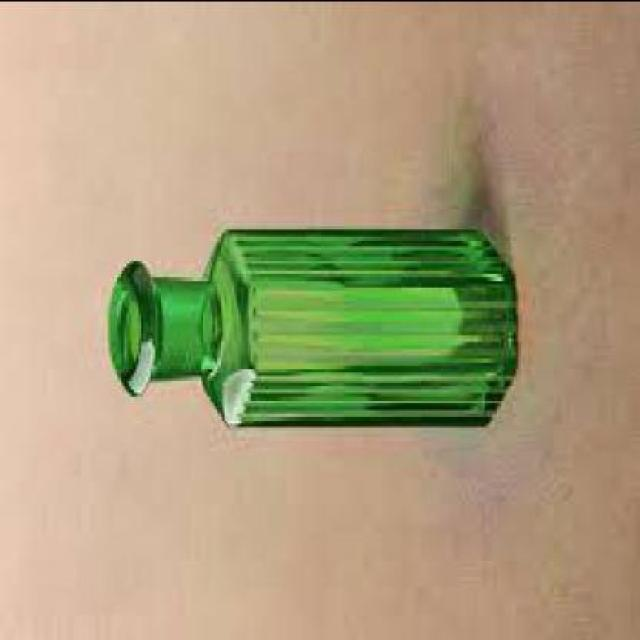GLASS: (106, 232, 516, 428)
